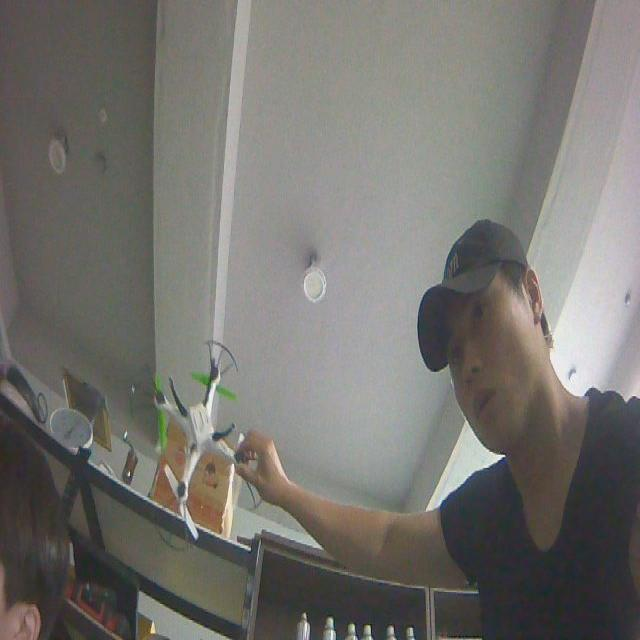drone: (128, 337, 268, 558)
